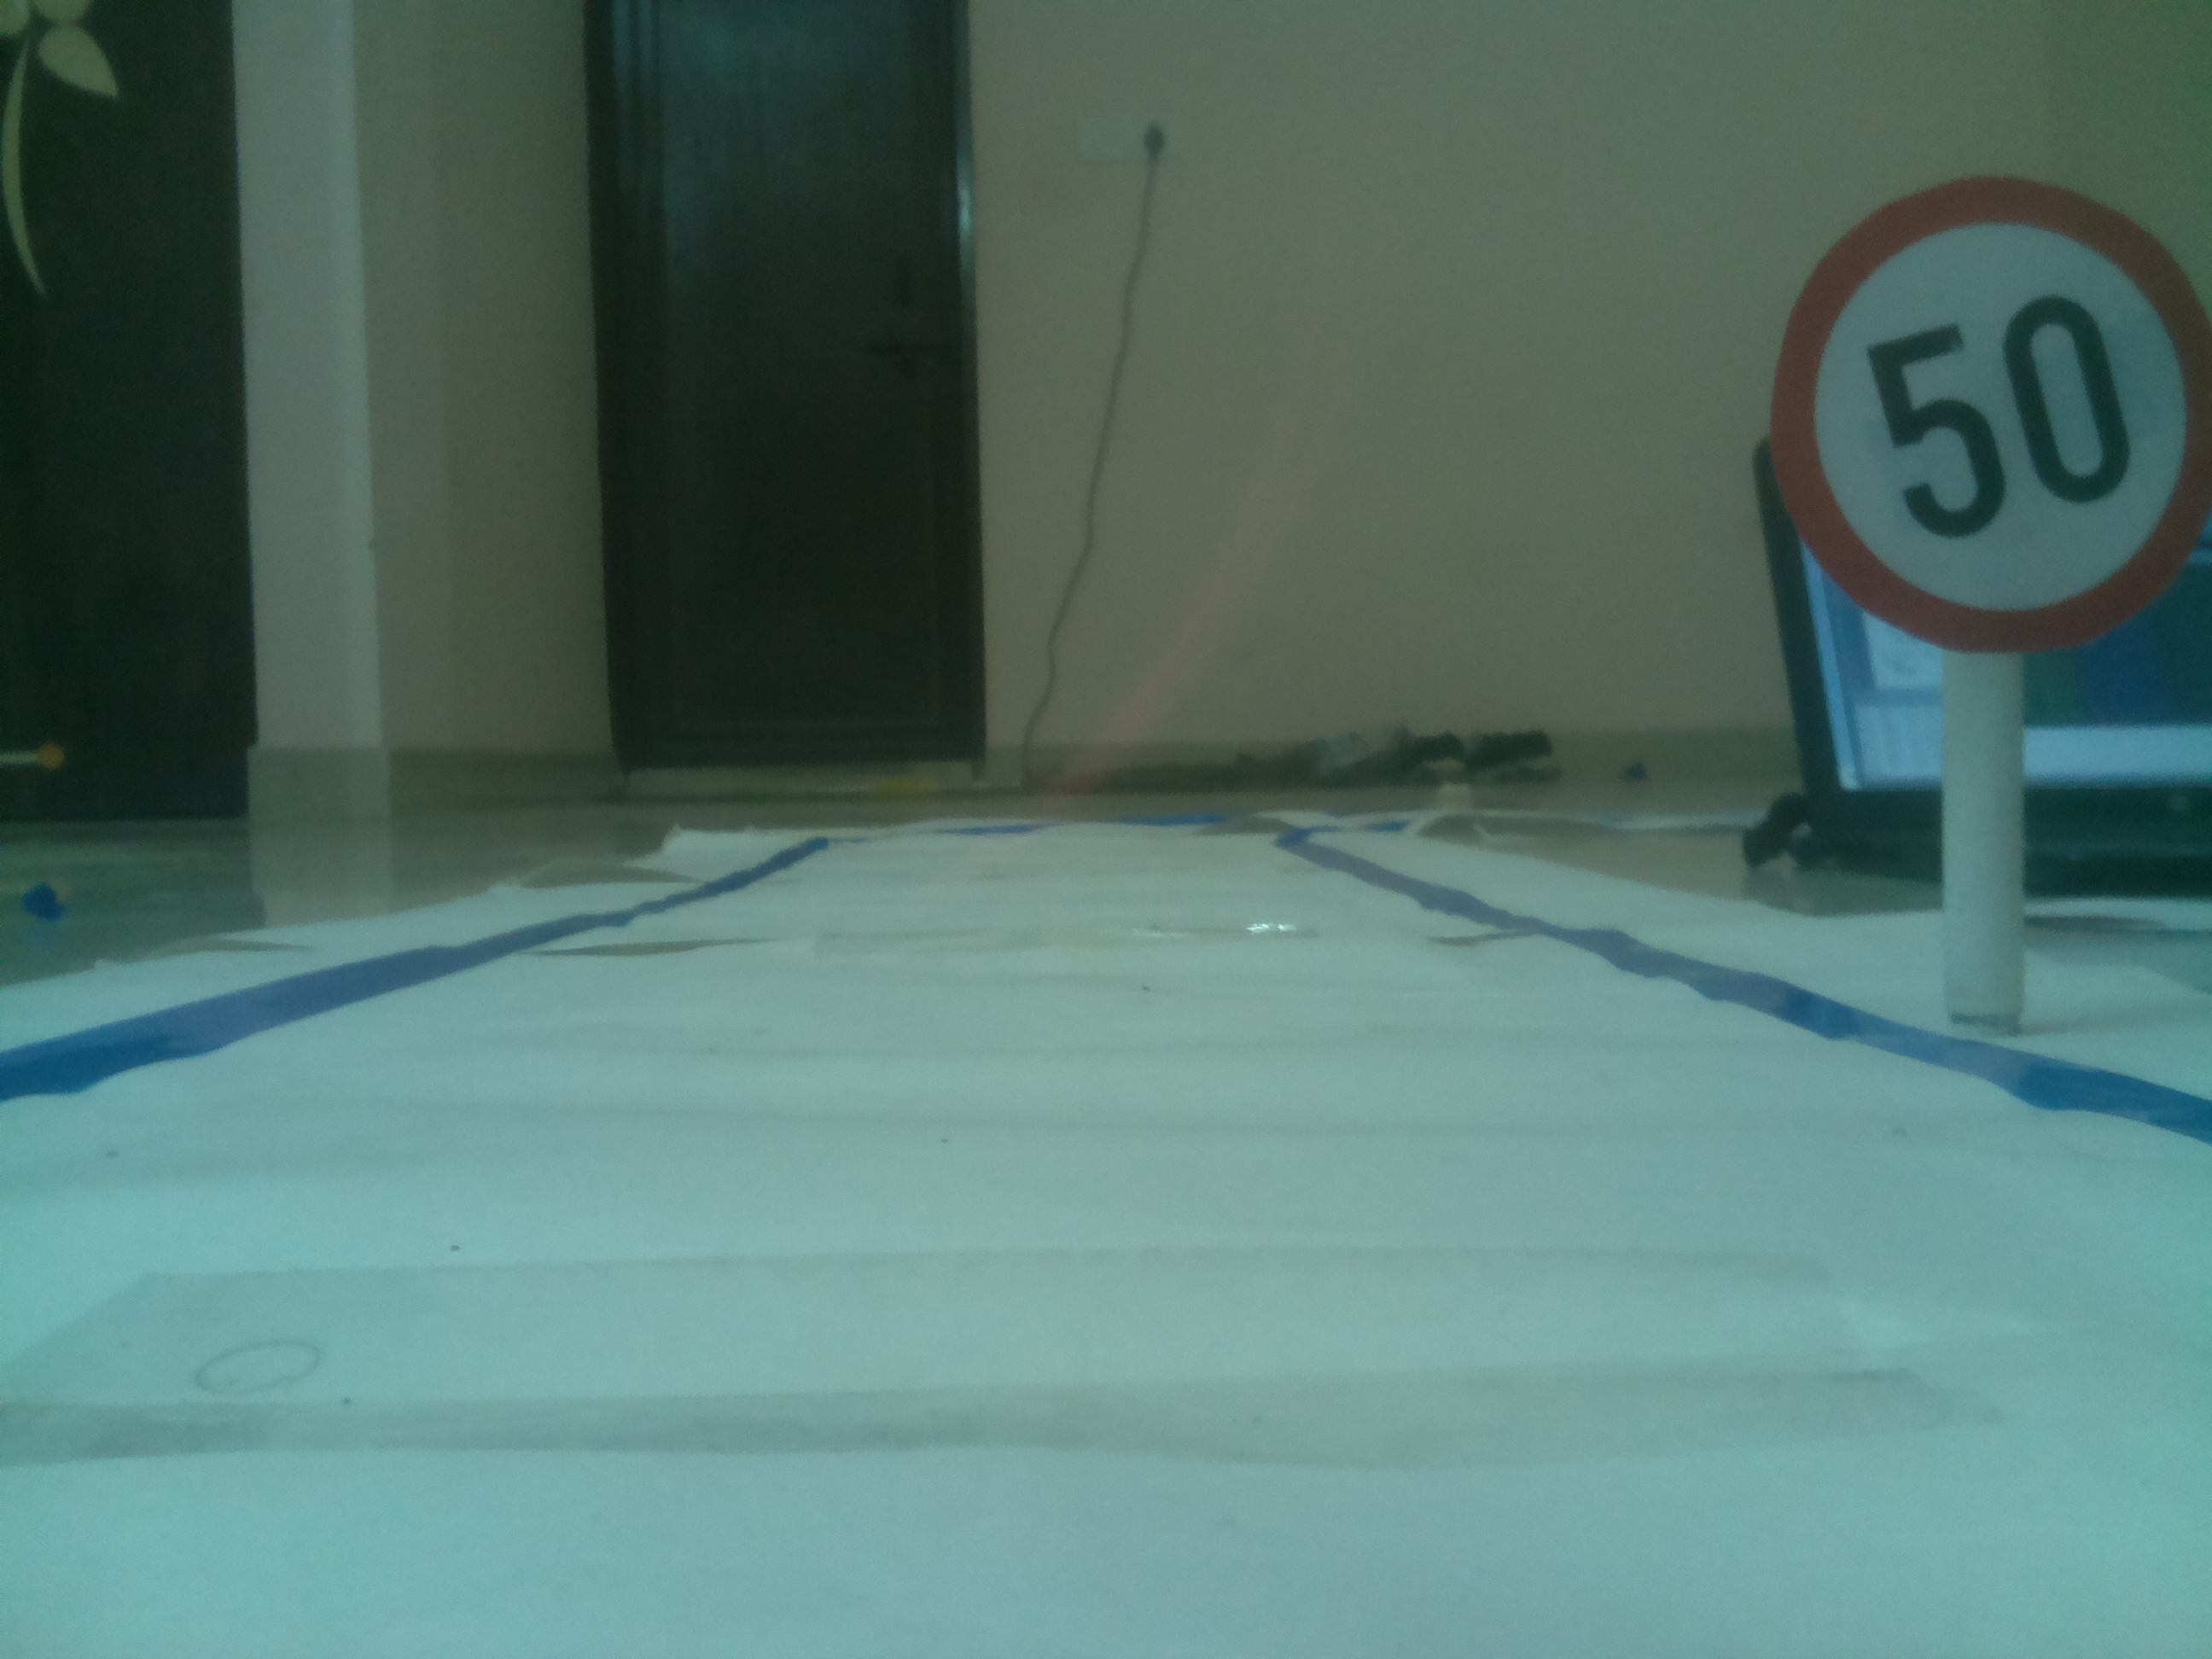speed-50: (1759, 192, 2212, 667)
